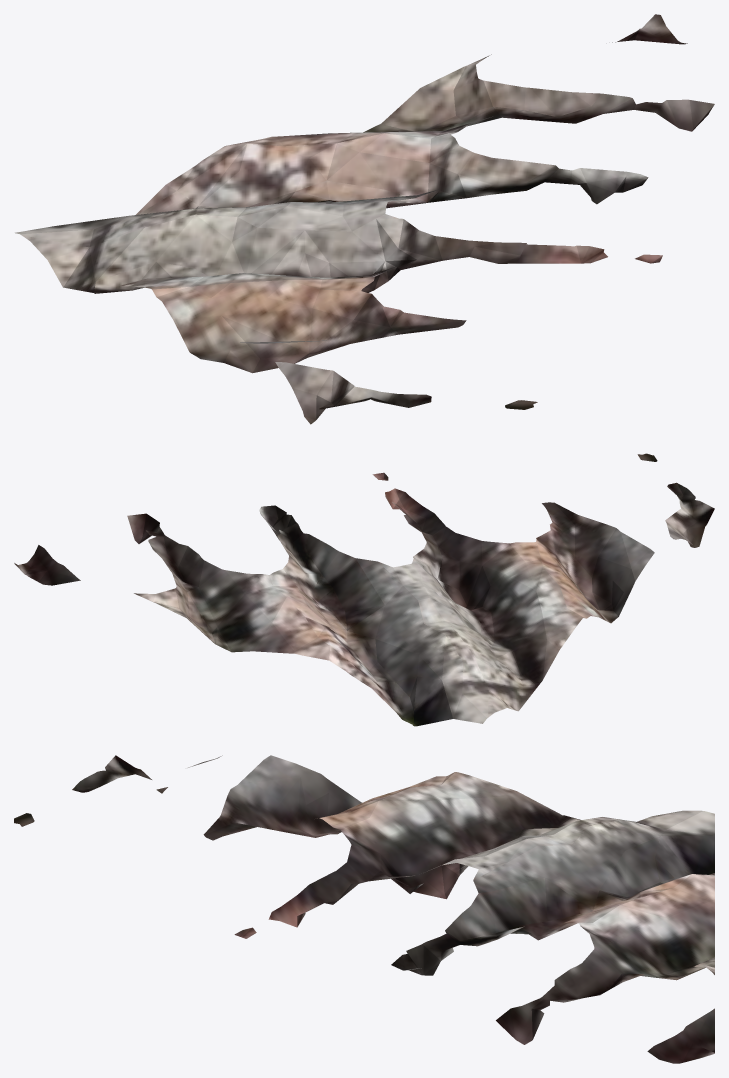
3 renders of one model, top to bottom at view 1: azimuth 30°, elevation 25°; view 2: azimuth 150°, elevation 25°; view 3: azimuth 270°, elevation 25°, orthographic. The views are drawn at different scales.
Size of the model in its own units: 0.8374 by 0.1099 by 0.8373.
2 materials, 2 textured.
